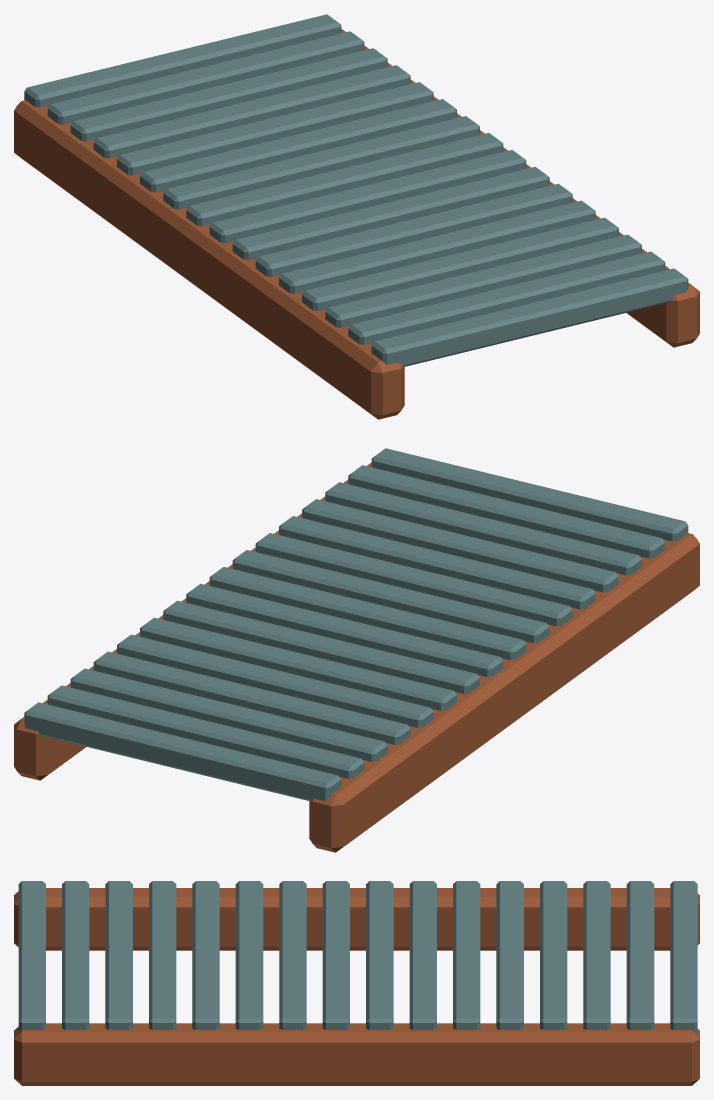
The model's file is Catwalk_3m.glb.
3 renders of one model, top to bottom at view 1: azimuth 30°, elevation 25°; view 2: azimuth 150°, elevation 25°; view 3: azimuth 270°, elevation 25°, orthographic. The views are drawn at different scales.
Visible parts, largest first — view 1: Catwalk_3m; view 2: Catwalk_3m; view 3: Catwalk_3m.
Boxes of the visible parts, x1,y1,x2,y2 form: Catwalk_3m: [14, 14, 699, 419]; Catwalk_3m: [14, 448, 699, 852]; Catwalk_3m: [14, 881, 699, 1085].
Size of the model in its own units: 1.56 by 0.31 by 3.
